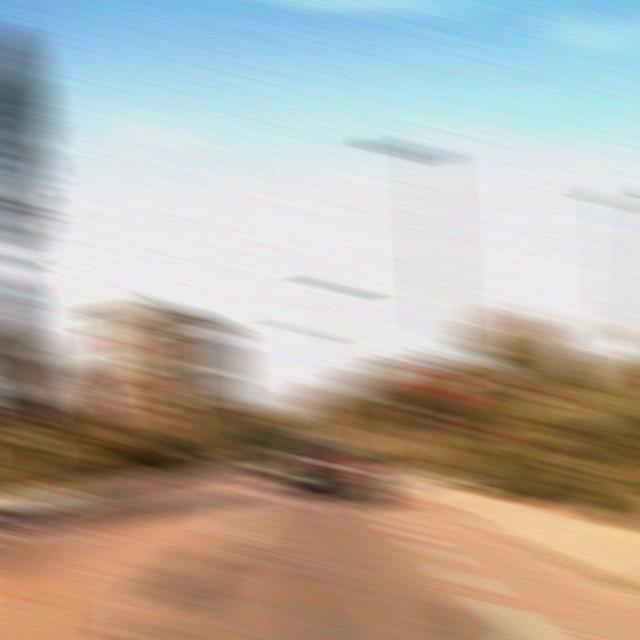stop: (421, 363, 467, 402)
